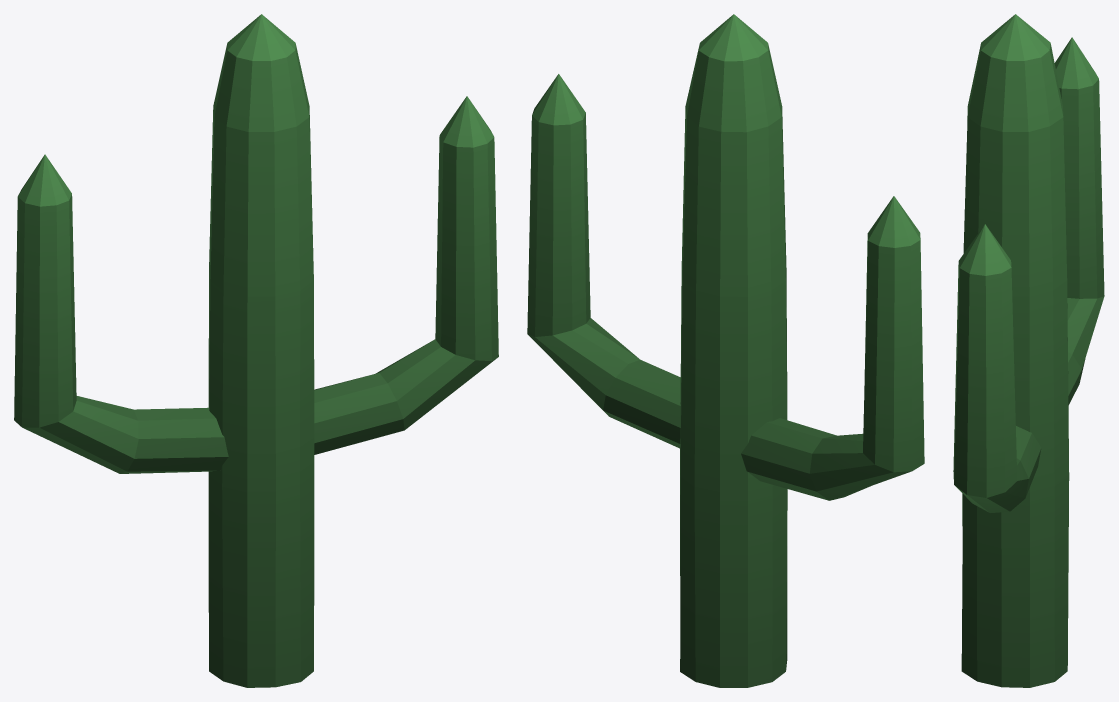
The model's file is cactus_saguaro_01.glb.
3 views of the same model, side by side, from view 1: azimuth 30°, elevation 25°; view 2: azimuth 150°, elevation 25°; view 3: azimuth 270°, elevation 25° (orthographic).
Visible parts, largest first — view 1: cactus_saguaro_01_LOD0; view 2: cactus_saguaro_01_LOD0; view 3: cactus_saguaro_01_LOD0.
Part boxes in pixels (x1,y1,x2,y2): cactus_saguaro_01_LOD0: [14, 14, 498, 687]; cactus_saguaro_01_LOD0: [527, 14, 924, 687]; cactus_saguaro_01_LOD0: [953, 14, 1104, 687].
Size of what is drawn, in the model's own units: 2.23 by 3.2 by 0.6725.
1 material, 1 textured.
